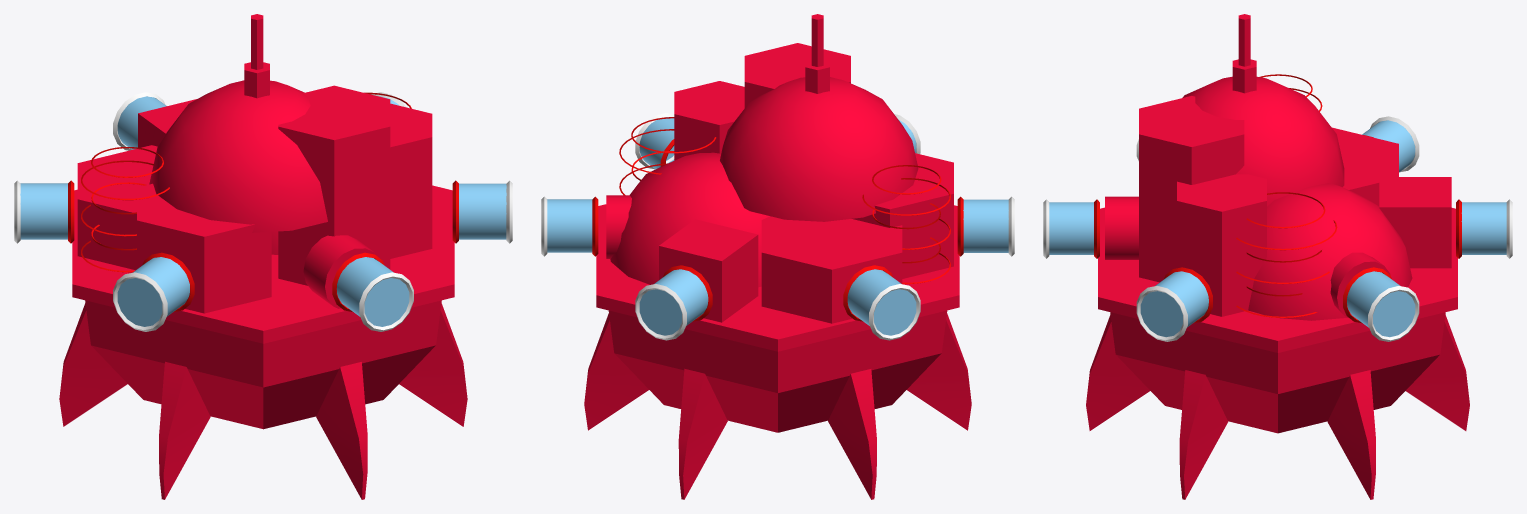
Rendered from B_usine.fbx.
3 views of the same model, side by side, from view 1: azimuth 30°, elevation 25°; view 2: azimuth 150°, elevation 25°; view 3: azimuth 270°, elevation 25° (orthographic). The views are drawn at different scales.
Visible parts, largest first — view 1: B_Usine, Connexion (×5); view 2: B_Usine, Connexion (×5); view 3: B_Usine, Connexion (×5).
Boxes of the visible parts, bbox=[...] form: B_Usine: bbox=[59, 14, 467, 499]; Connexion (×5): bbox=[14, 92, 512, 331]; B_Usine: bbox=[584, 14, 971, 499]; Connexion (×5): bbox=[541, 113, 1014, 340]; B_Usine: bbox=[1086, 14, 1469, 499]; Connexion (×5): bbox=[1043, 116, 1512, 341].
Bounding box in the file's own units: 724 × 743 × 785.
